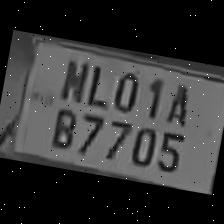0: (106, 64, 142, 114), (124, 120, 160, 168)
1: (136, 71, 168, 120)
5: (150, 126, 187, 174)
7: (72, 105, 106, 160), (96, 111, 130, 162)
A: (158, 76, 195, 128)
B: (45, 99, 79, 152)
L: (80, 58, 111, 108)
N: (55, 52, 92, 104)
